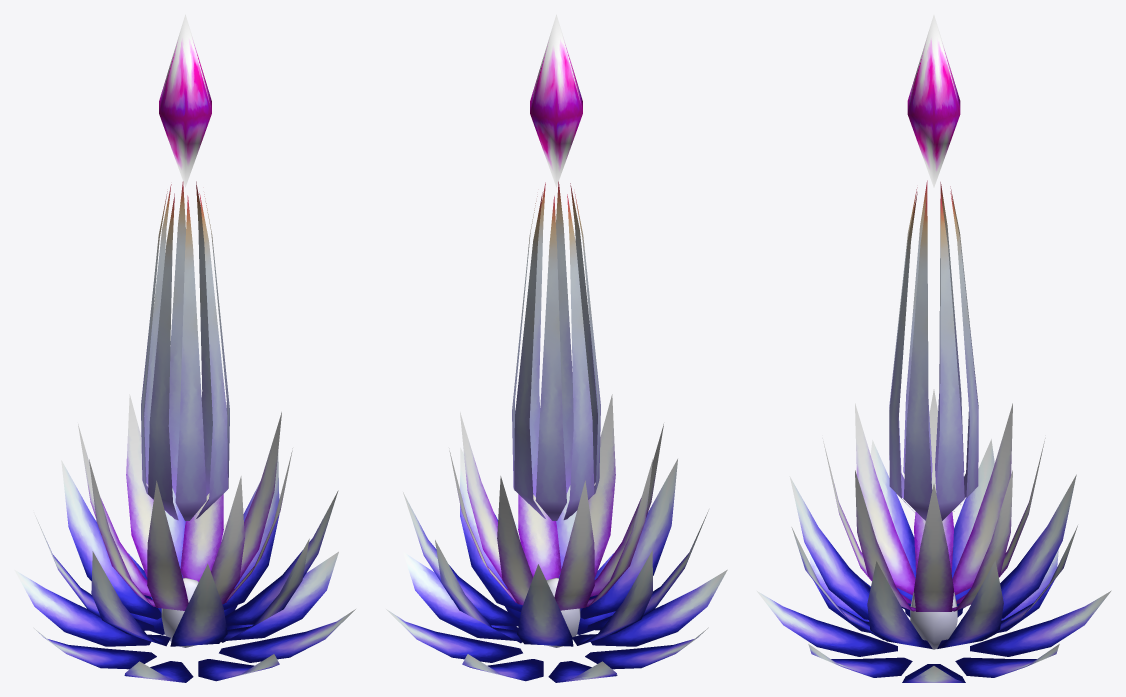
File: tower3.fbx
The picture shows the model from 3 angles, left to right: view 1: azimuth 30°, elevation 25°; view 2: azimuth 150°, elevation 25°; view 3: azimuth 270°, elevation 25°; orthographic projection.
Parts seen in each view (by area): view 1: pSphere6, polySurface26, polySurface30; view 2: pSphere6, polySurface26, polySurface30; view 3: pSphere6, polySurface26, polySurface30.
Boxes of the visible parts, x1=… form: pSphere6: x1=78, y1=14, x2=292, y2=610; polySurface26: x1=35, y1=453, x2=338, y2=646; polySurface30: x1=14, y1=521, x2=355, y2=682; pSphere6: x1=449, y1=14, x2=663, y2=610; polySurface26: x1=403, y1=447, x2=708, y2=646; polySurface30: x1=386, y1=521, x2=727, y2=682; pSphere6: x1=822, y1=15, x2=1045, y2=611; polySurface26: x1=789, y1=439, x2=1077, y2=648; polySurface30: x1=756, y1=549, x2=1111, y2=682.
Bounding box in the file's own units: 654 × 1286 × 654.
